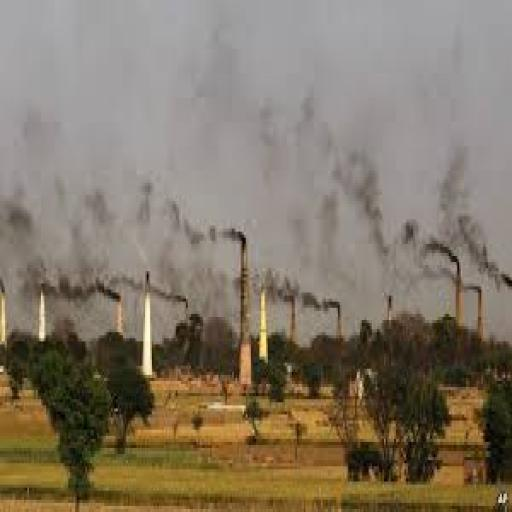smoke: (17, 238, 121, 308), (234, 244, 345, 308)
